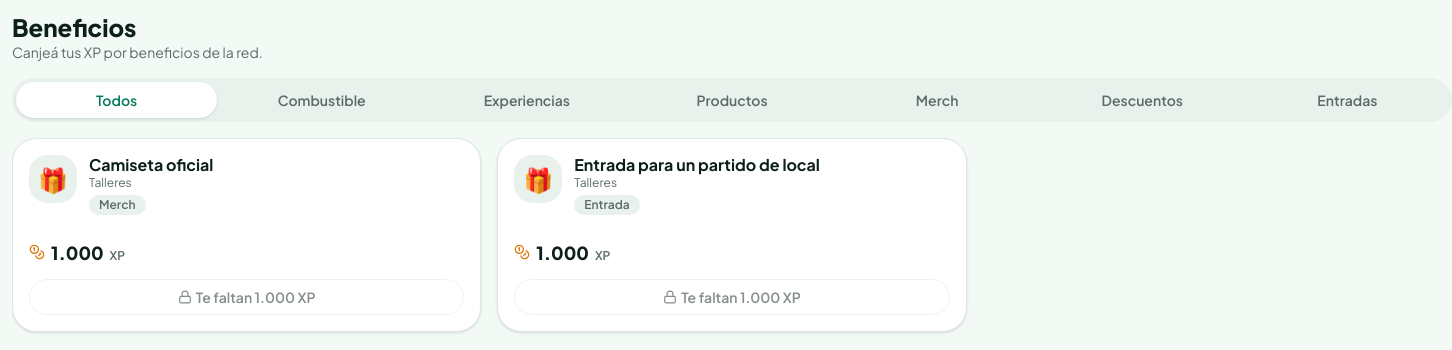
it: beneficios › la pestaña «Merch» muestra la camiseta del club
Expected: the text "Camiseta oficial" is shown, [89,154,213,175]
Click the tab "Merch".
click(937, 100)  # box [837,82,1038,118]
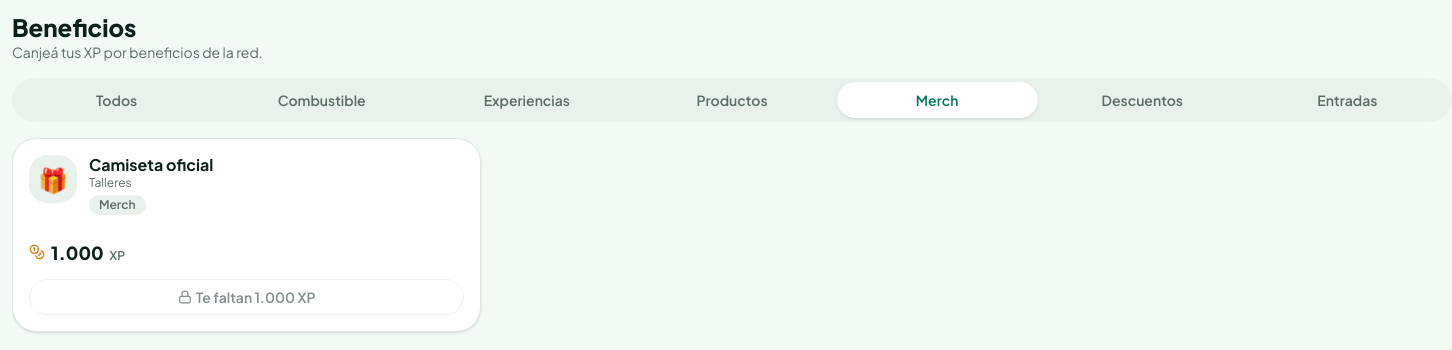
Expected: the text "Camiseta oficial" is shown, [89,154,213,175]
Result: the text "Entrada para un partido de local" is gone
